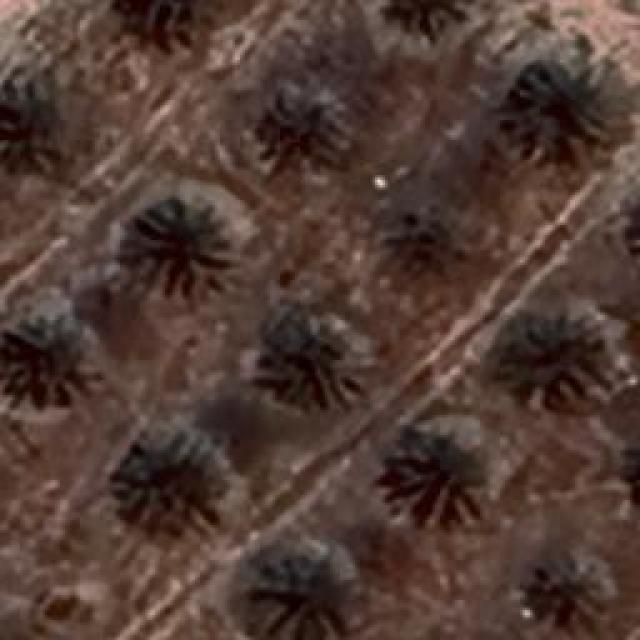PalmTree: (82, 68, 429, 246), (113, 428, 220, 530), (518, 550, 636, 640), (251, 537, 353, 640), (510, 55, 608, 160), (2, 310, 100, 408), (130, 200, 225, 298), (268, 318, 370, 408), (508, 310, 610, 400), (385, 435, 485, 523), (260, 75, 348, 163), (0, 67, 72, 160), (89, 30, 162, 68), (380, 0, 465, 32), (623, 174, 640, 278), (629, 176, 640, 277), (629, 424, 640, 518)
